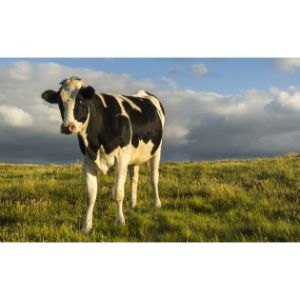cow: (40, 74, 169, 234)
